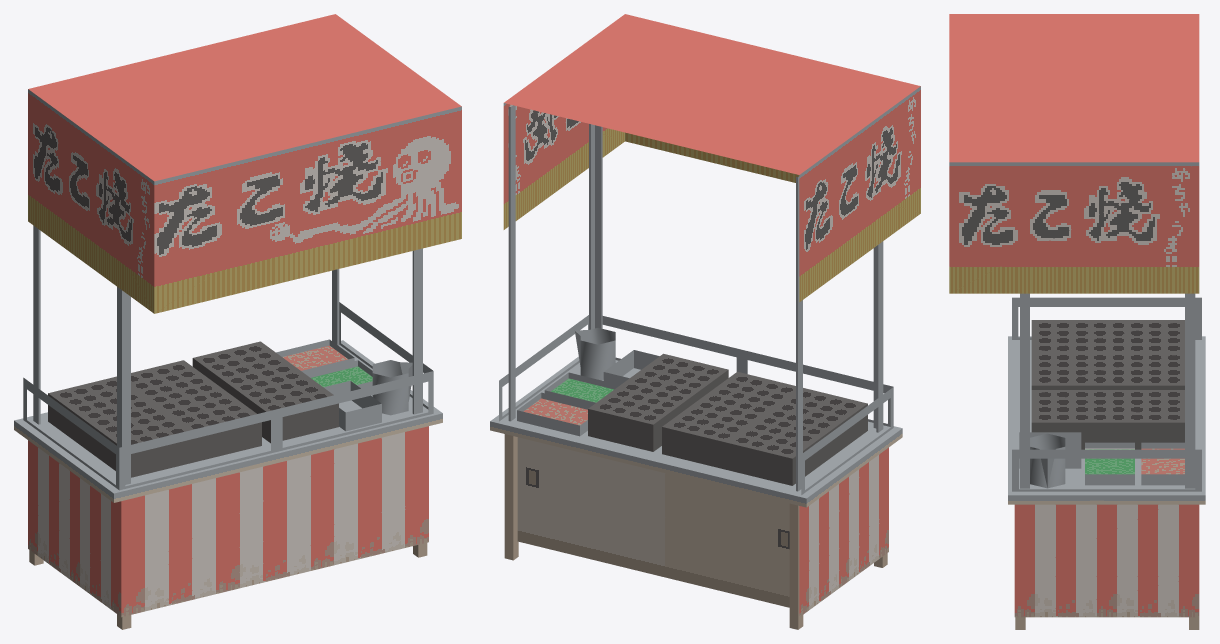
The model's file is 0125_Street_Stall.glb.
3 views of the same model, side by side, from view 1: azimuth 30°, elevation 25°; view 2: azimuth 150°, elevation 25°; view 3: azimuth 270°, elevation 25° (orthographic). The views are drawn at different scales.
Parts seen in each view (by area): view 1: part_0; view 2: part_0; view 3: part_0.
Boxes of the visible parts, <box> form: part_0: <box>14,14,461,629</box>; part_0: <box>490,14,920,629</box>; part_0: <box>949,14,1205,629</box>.
Bounding box in the file's own units: 1.82 × 2.5 × 1.24.
1 material, 1 textured.
